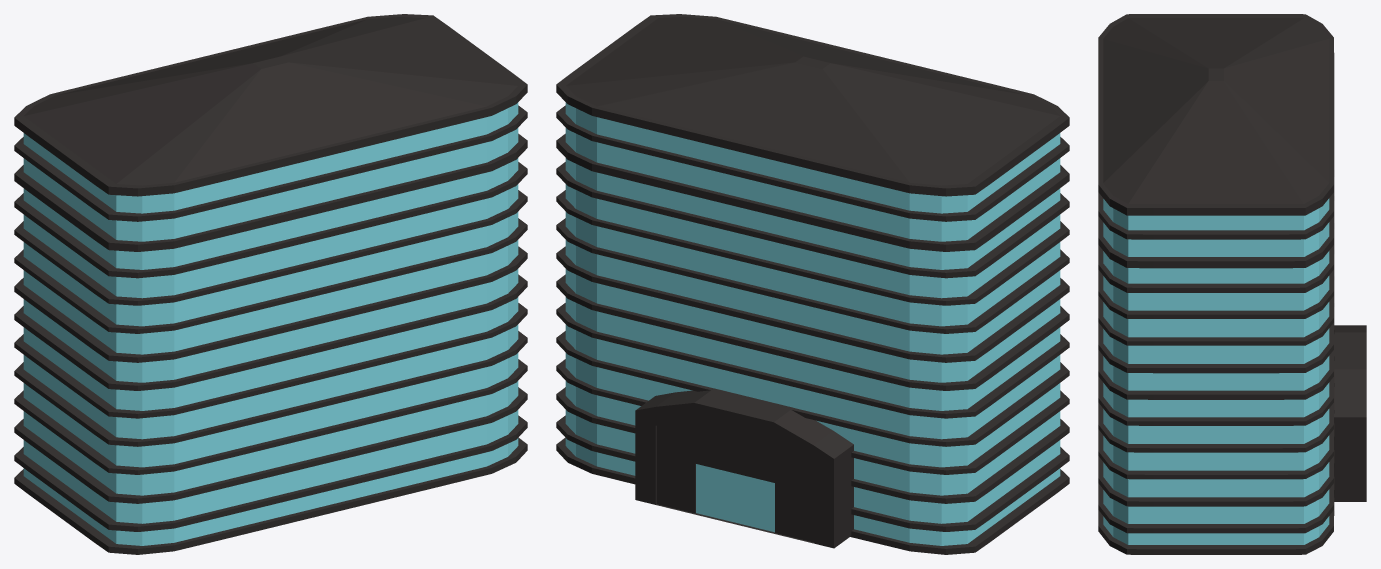
File: skyscraper2_small.fbx
The picture shows the model from 3 angles, left to right: view 1: azimuth 30°, elevation 25°; view 2: azimuth 150°, elevation 25°; view 3: azimuth 270°, elevation 25°; orthographic projection. The views are drawn at different scales.
Visible parts, largest first — view 1: Cube, Cube.001, Cube.002; view 2: Cube, Cube.001, Cube.002, Cube.003, Cube.004; view 3: Cube, Cube.002, Cube.001, Cube.003.
Boxes of the visible parts, x1=… form: Cube: x1=23, y1=102, x2=518, y2=545; Cube.001: x1=14, y1=14, x2=527, y2=554; Cube.002: x1=24, y1=17, x2=517, y2=185; Cube: x1=565, y1=102, x2=1060, y2=545; Cube.001: x1=556, y1=14, x2=1069, y2=554; Cube.002: x1=566, y1=17, x2=1059, y2=185; Cube.003: x1=635, y1=388, x2=853, y2=548; Cube.004: x1=696, y1=464, x2=774, y2=532; Cube: x1=1103, y1=198, x2=1329, y2=544; Cube.002: x1=1103, y1=18, x2=1329, y2=203; Cube.001: x1=1098, y1=14, x2=1334, y2=554; Cube.003: x1=1334, y1=325, x2=1366, y2=501.
Bounding box in the file's own units: 6999 × 6452 × 4093.
